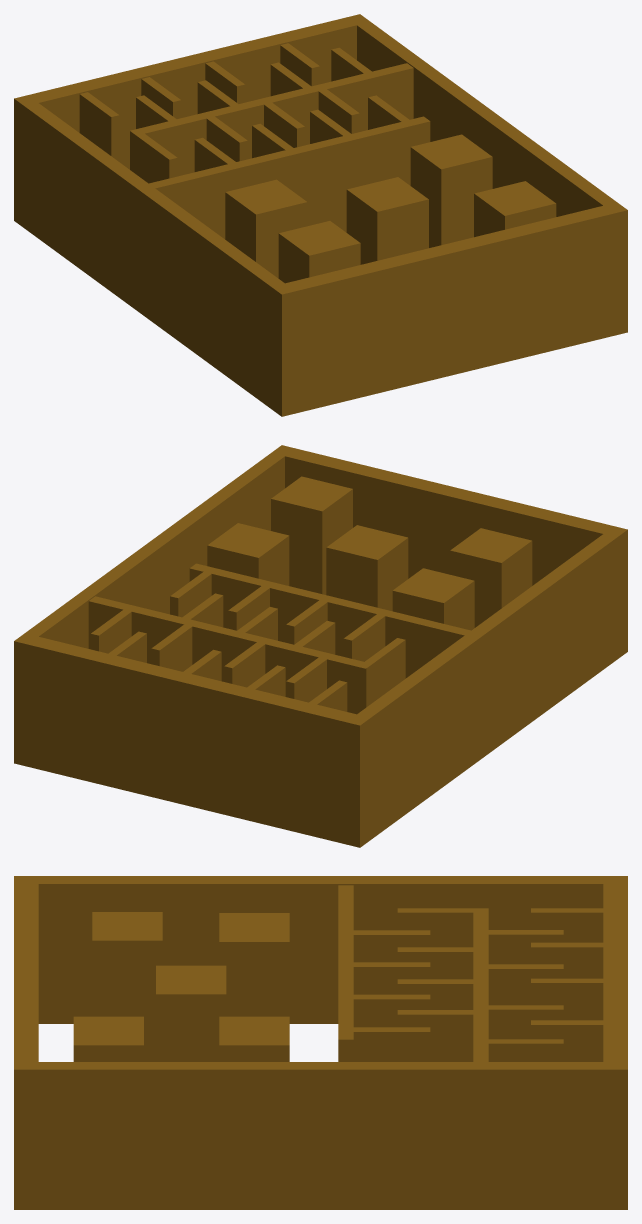
Rendered from Map2.obj.
3 views of the same model, one above another, from view 1: azimuth 30°, elevation 25°; view 2: azimuth 150°, elevation 25°; view 3: azimuth 270°, elevation 25° (orthographic). The views are drawn at different scales.
Parts seen in each view (by area): view 1: MAP.EDGE, OBSTACLE; view 2: MAP.EDGE, OBSTACLE; view 3: MAP.EDGE, OBSTACLE.
Boxes of the visible parts, left/top/right/bottom form: MAP.EDGE: left=14, top=14, right=627, bottom=416; OBSTACLE: left=79, top=43, right=556, bottom=283; MAP.EDGE: left=14, top=445, right=627, bottom=847; OBSTACLE: left=88, top=476, right=532, bottom=714; MAP.EDGE: left=14, top=876, right=627, bottom=1209; OBSTACLE: left=73, top=885, right=603, bottom=1061.
Size of the model in its own units: 5990 by 2022 by 8030.
